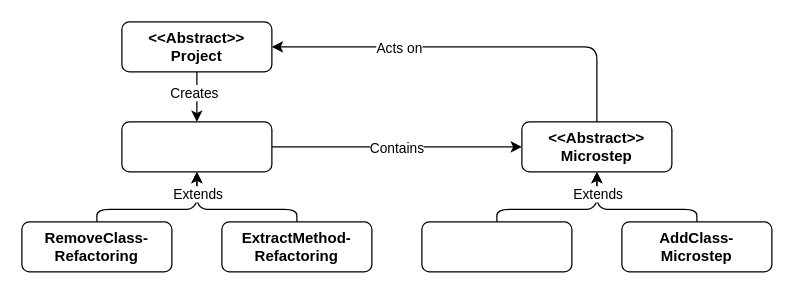
This 794x294 diagram has some shape labels left out. Here are the shapes that lost their labels. From the top down, the box of each, then its label:
(121, 121, 272, 172): <<Abstract>> Refactoring
(421, 221, 572, 272): RemoveClass- Microstep
